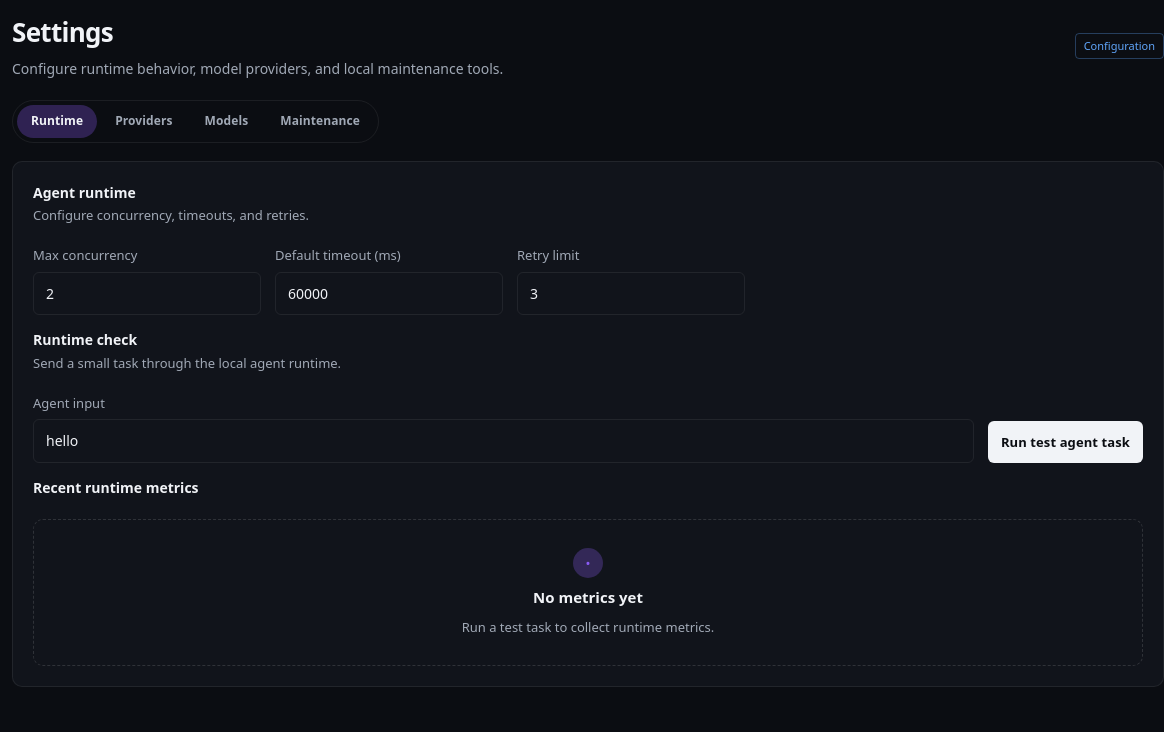
it: Maintenance presentation contracts › reports rejected runtime saves without losing the edited value
This screenshot has width=1164, height=732.
Step 1. Replace the text in the number field labelled "Max concurrency" with "4" → x=147, y=293, box [33, 272, 261, 315]
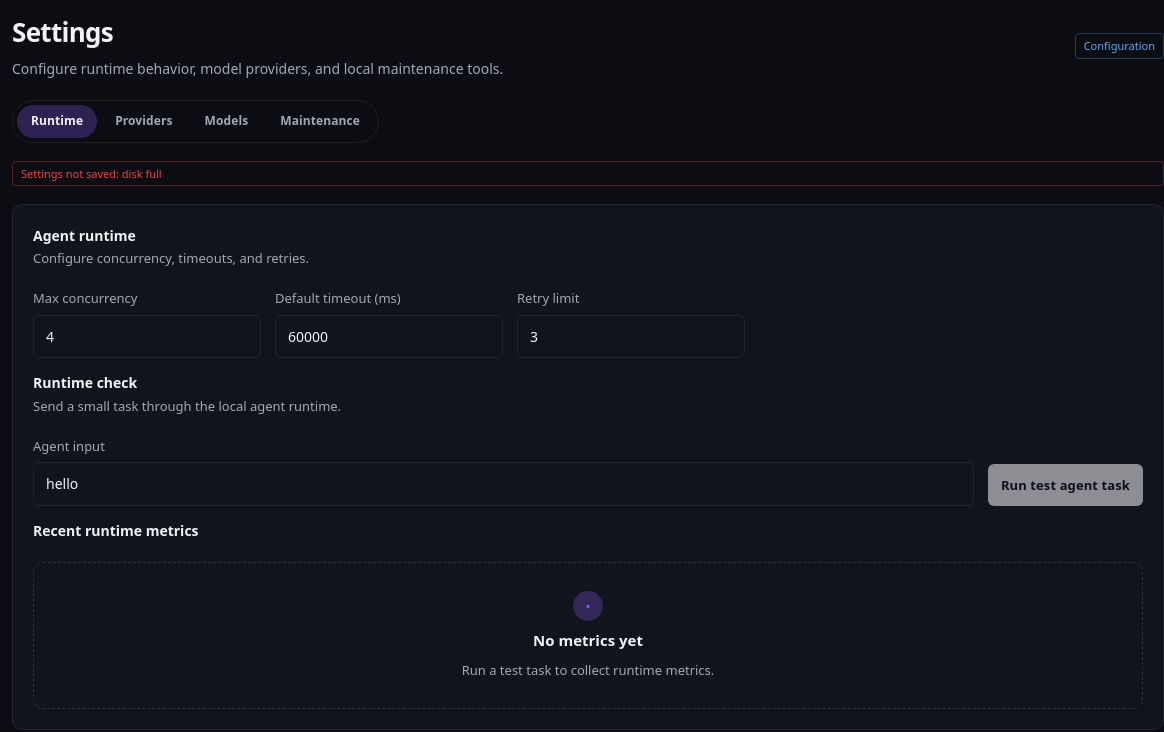
Expected: the message "Settings not saved: disk full" is shown, [12, 161, 1163, 186]
